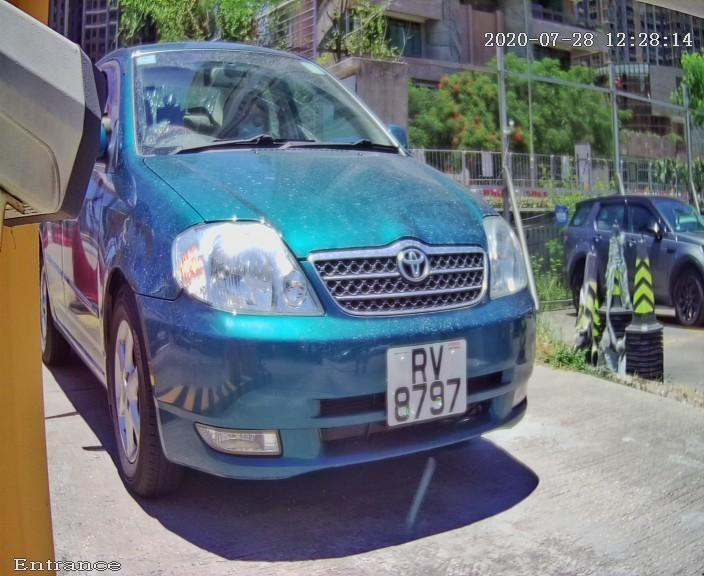privatecar: (13, 24, 607, 553)
